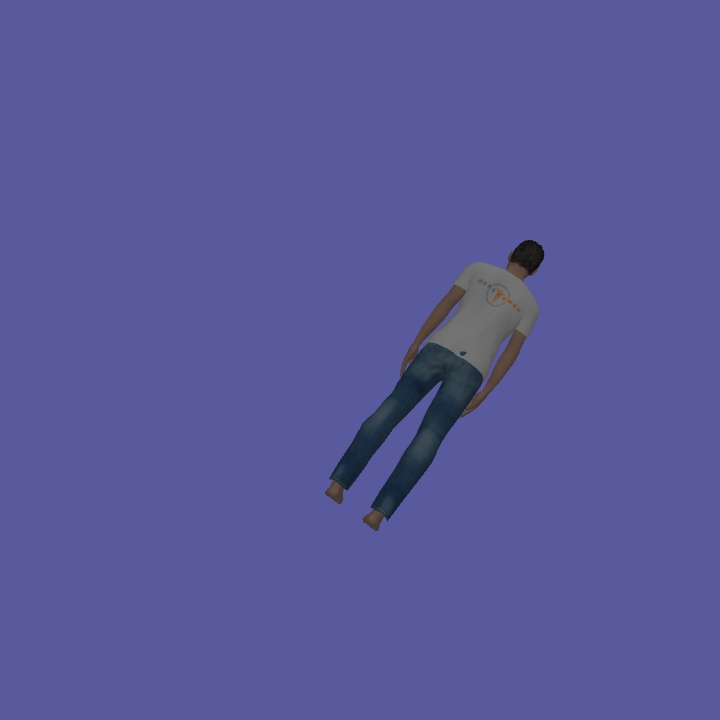victim: (322, 227, 548, 537)
